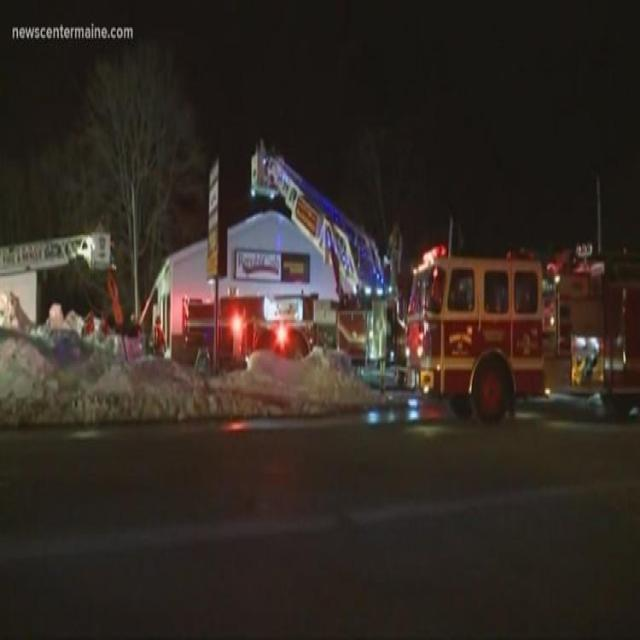other: (223, 295, 258, 357), (269, 322, 300, 354)
